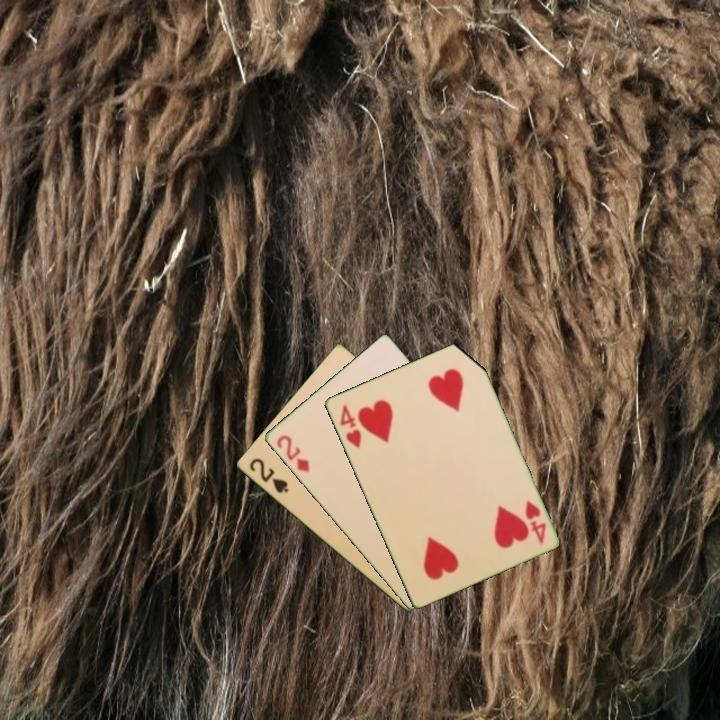2d: (273, 431, 312, 475)
2s: (245, 455, 291, 496)
4h: (521, 496, 549, 547), (336, 401, 364, 451)
